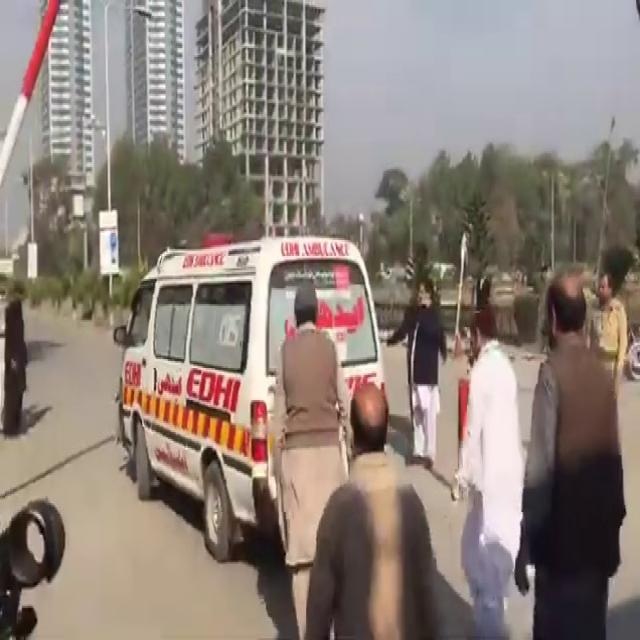ambulance: (115, 176, 418, 554)
